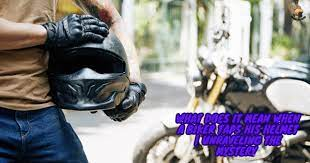helmets: (47, 23, 132, 116)
